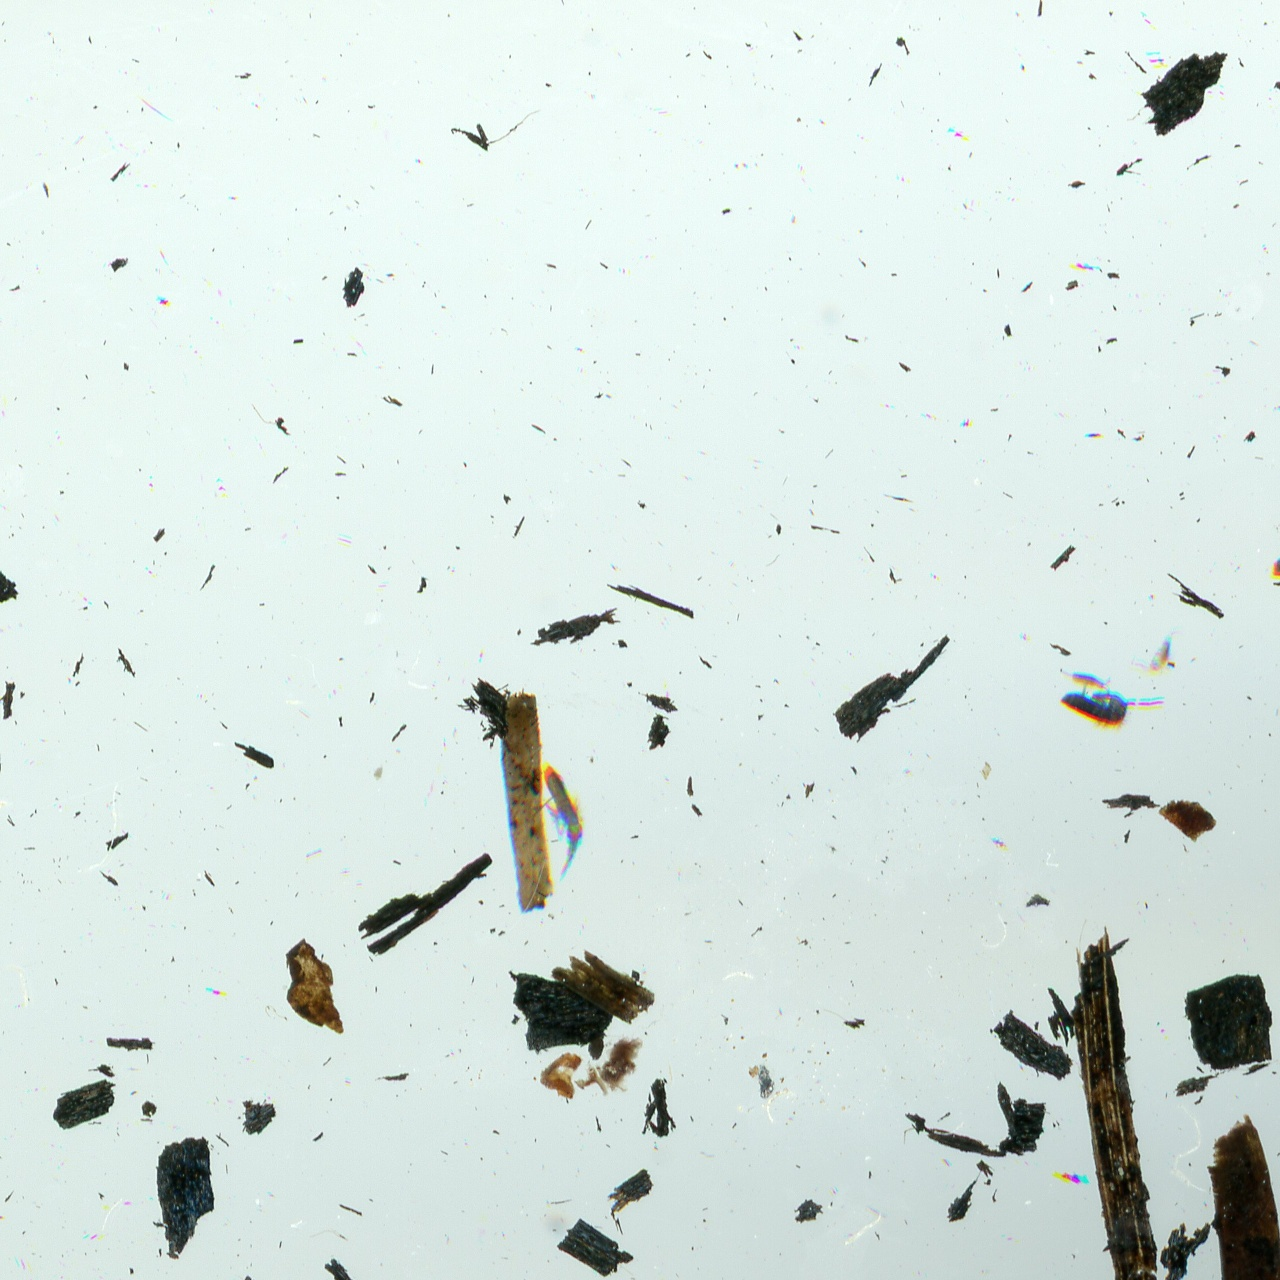arthropod: (515, 744, 602, 884), (1055, 687, 1167, 736), (1048, 660, 1115, 700), (1129, 626, 1185, 673), (1265, 483, 1280, 605)
